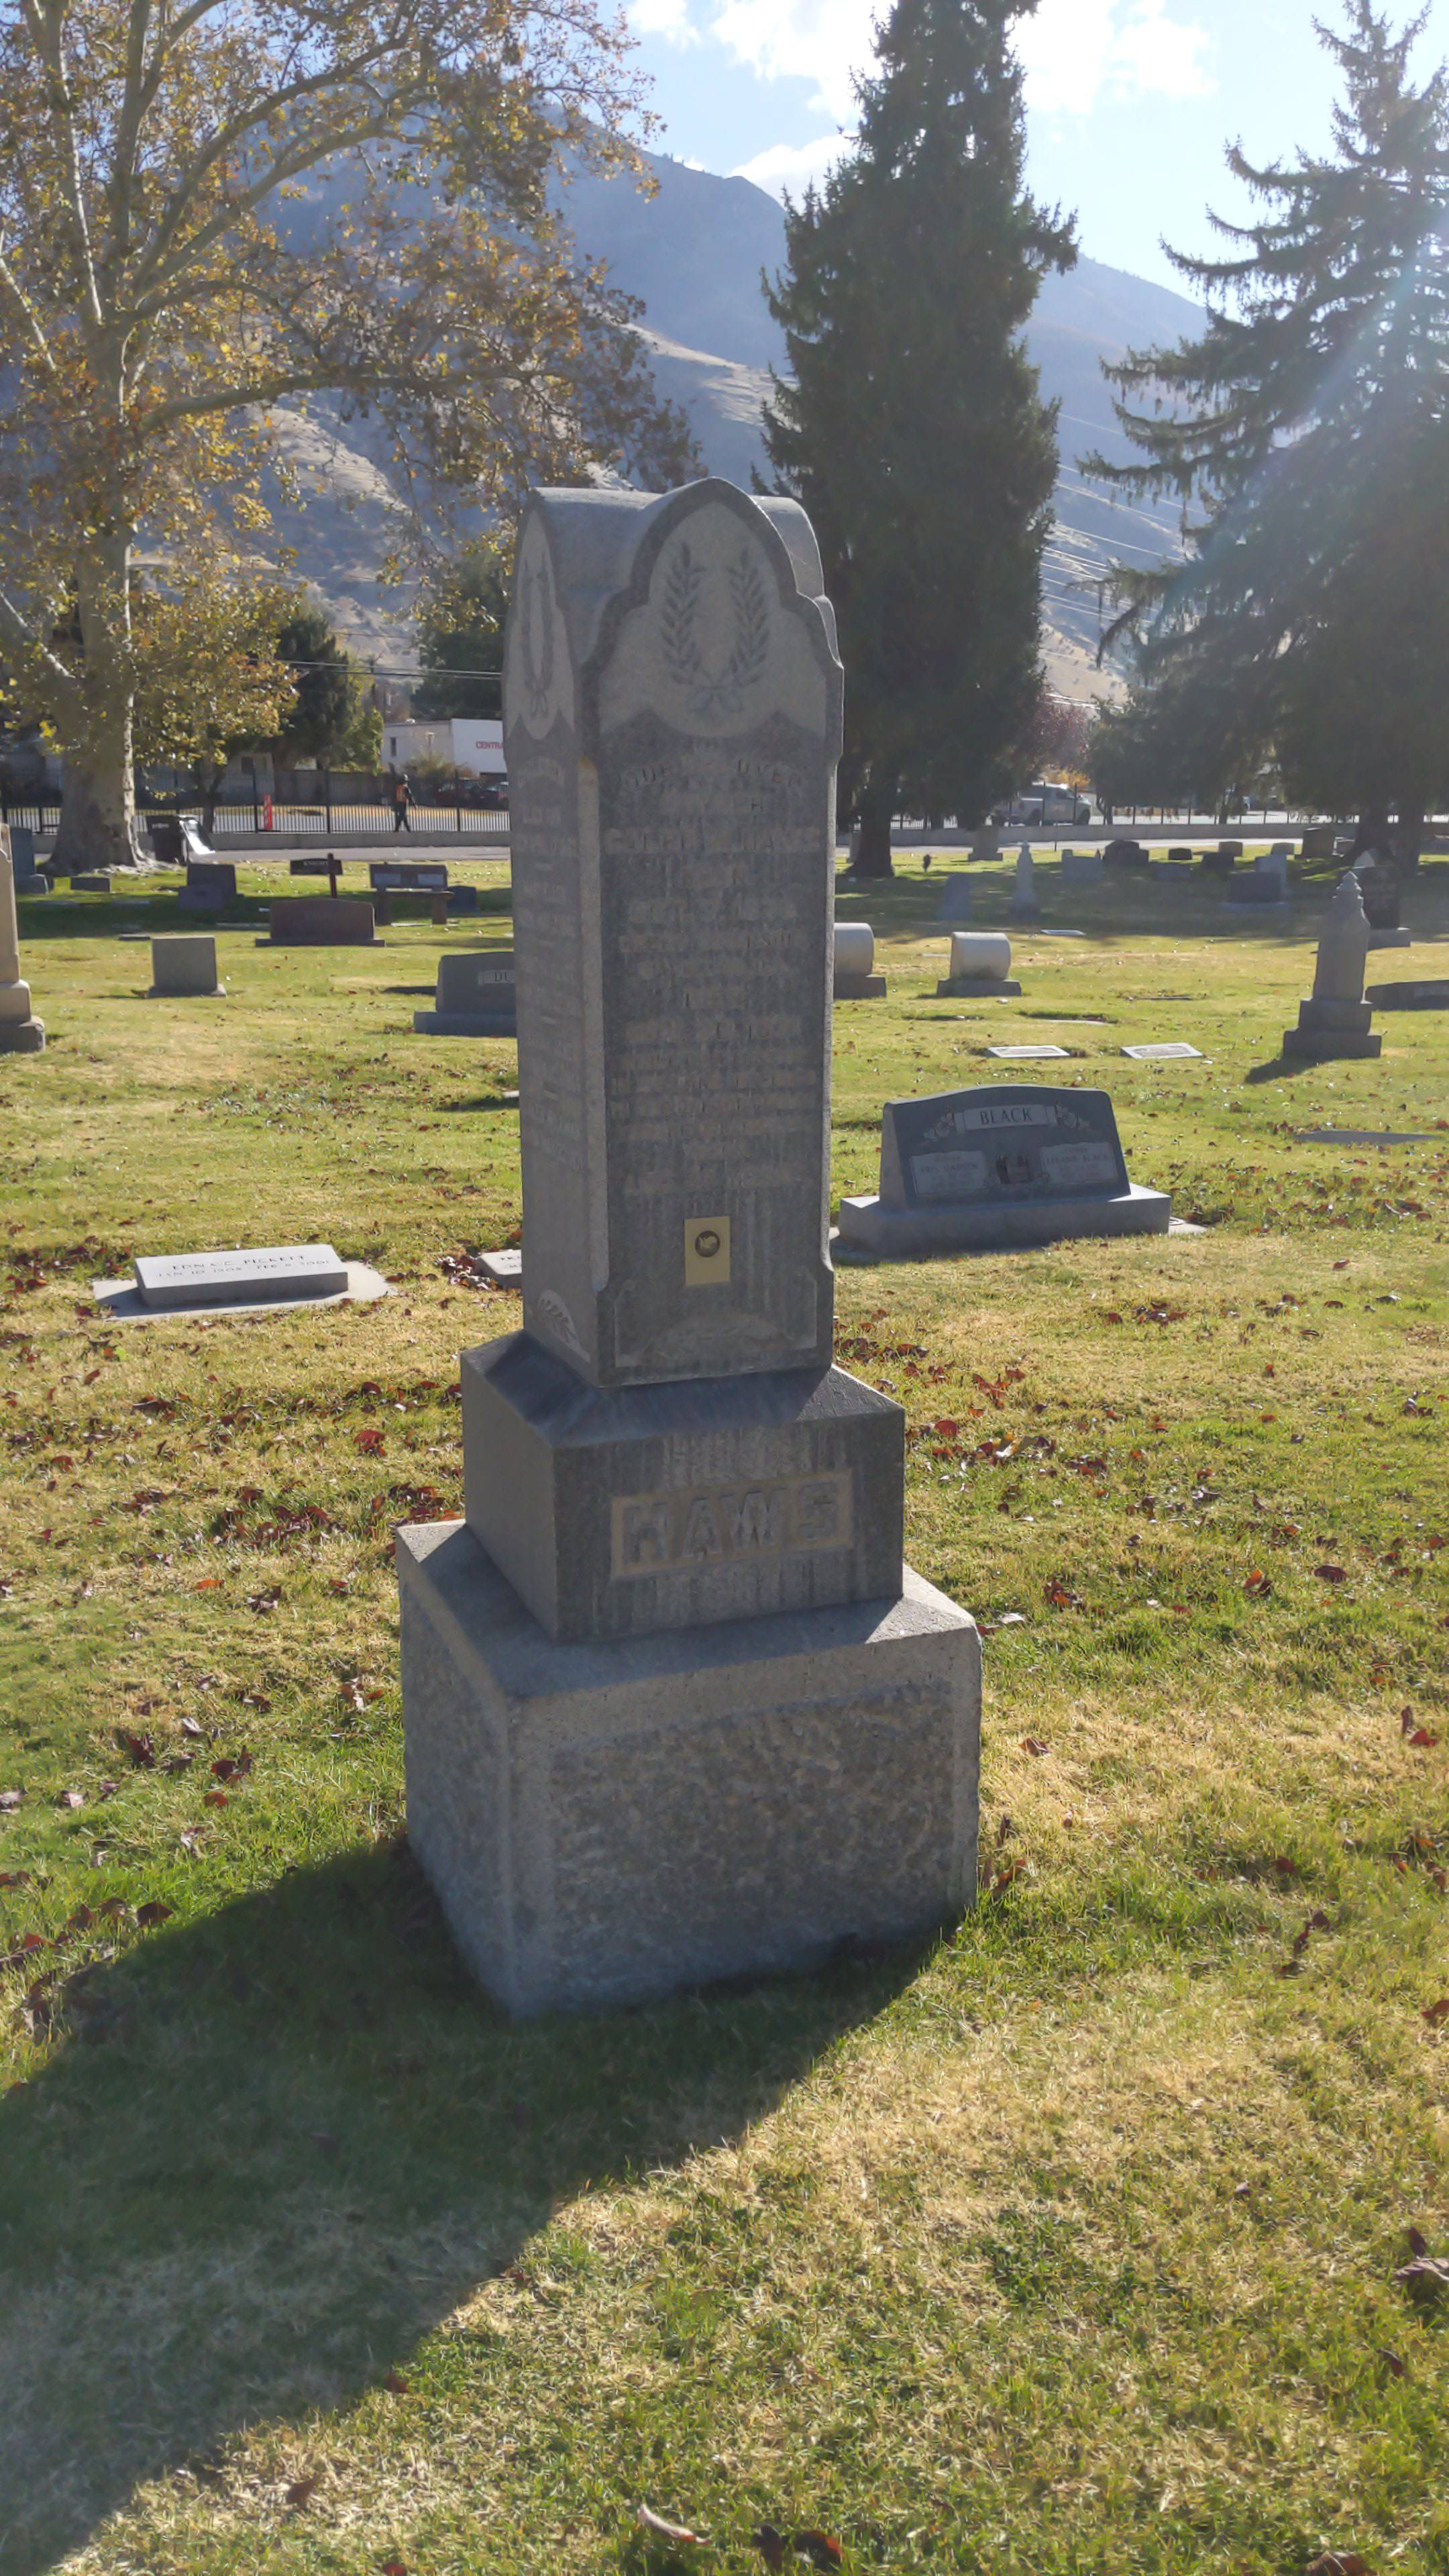obelisk: (458, 497, 897, 1633)
